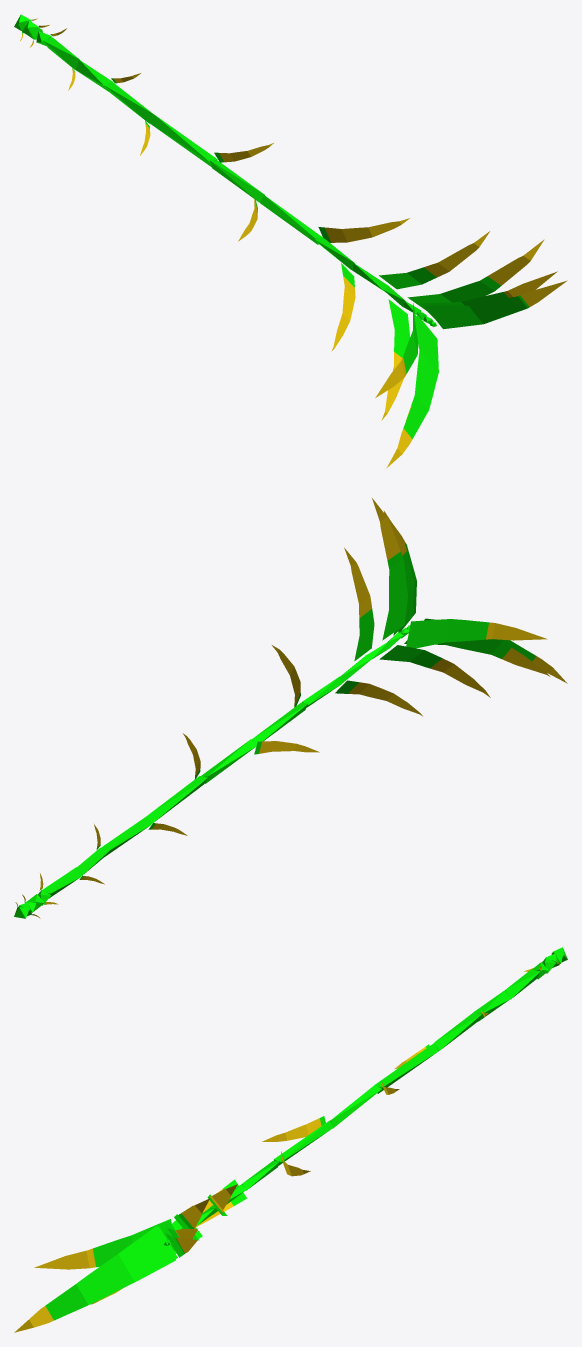
The model's file is usm_10_2.5D_2018-09-16_9.obj.
3 views of the same model, one above another, from view 1: azimuth 30°, elevation 25°; view 2: azimuth 150°, elevation 25°; view 3: azimuth 330°, elevation 25° (orthographic). The views are drawn at different scales.
Parts seen in each view (by area): view 1: vid_42, vid_40, vid_32, vid_10000024, vid_19, vid_30, vid_10000028, vid_28, vid_23, vid_10000032, vid_10000026, vid_21 (+1 smaller); view 2: vid_34, vid_32, vid_30, vid_38, vid_10000026, vid_19, vid_10000034, vid_10000028, vid_28, vid_10000030, vid_10000032, vid_21 (+2 smaller); view 3: vid_42, vid_34, vid_10000034, vid_19, vid_23, vid_17, vid_10000022, vid_21.
Part boxes in pixels (bbox=[...]): vid_42: bbox=[403, 314, 438, 438]; vid_40: bbox=[424, 295, 529, 329]; vid_32: bbox=[407, 276, 500, 310]; vid_10000024: bbox=[324, 218, 409, 242]; vid_19: bbox=[149, 114, 217, 166]; vid_30: bbox=[388, 299, 409, 357]; vid_10000028: bbox=[424, 231, 489, 277]; vid_28: bbox=[379, 267, 436, 289]; vid_23: bbox=[260, 195, 321, 244]; vid_10000032: bbox=[488, 239, 544, 285]; vid_10000026: bbox=[331, 276, 355, 351]; vid_21: bbox=[210, 160, 264, 202]; vid_34: bbox=[406, 619, 488, 648]; vid_32: bbox=[382, 551, 407, 640]; vid_30: bbox=[379, 645, 442, 668]; vid_38: bbox=[404, 639, 511, 658]; vid_10000026: bbox=[348, 682, 422, 716]; vid_19: bbox=[147, 776, 207, 824]; vid_10000034: bbox=[486, 622, 547, 640]; vid_10000028: bbox=[344, 547, 372, 617]; vid_28: bbox=[354, 609, 374, 661]; vid_10000030: bbox=[430, 658, 490, 697]; vid_10000032: bbox=[372, 498, 400, 560]; vid_21: bbox=[201, 739, 256, 783]; vid_42: bbox=[45, 1226, 175, 1320]; vid_34: bbox=[93, 1219, 174, 1267]; vid_10000034: bbox=[34, 1248, 95, 1269]; vid_19: bbox=[375, 1042, 438, 1093]; vid_23: bbox=[274, 1120, 332, 1165]; vid_17: bbox=[434, 1012, 481, 1050]; vid_10000022: bbox=[262, 1118, 321, 1141]; vid_21: bbox=[330, 1085, 381, 1128].
Size of the model in its own units: 64.97 by 55.81 by 283.
